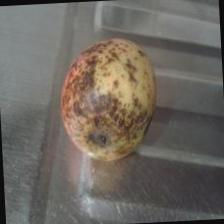Mango Overripe: (56, 34, 162, 166)
